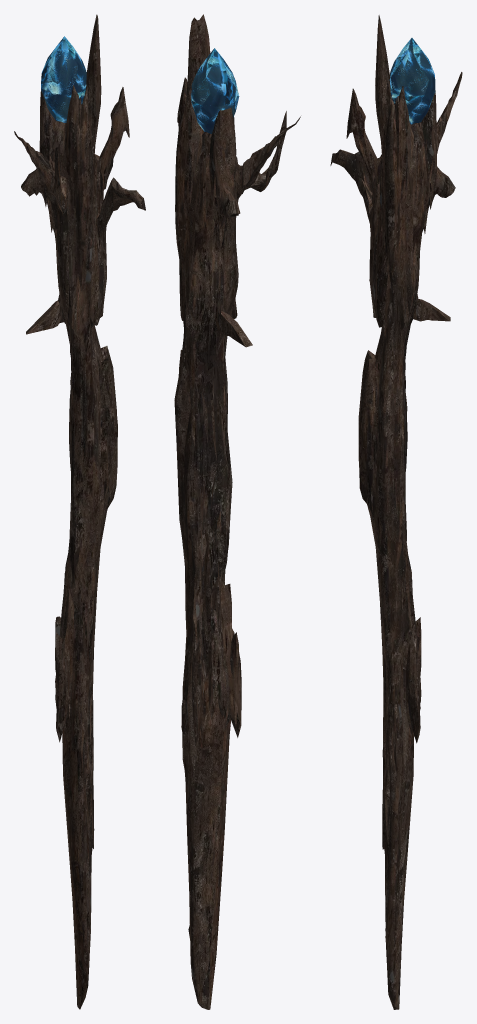
The model's file is staff.glb.
3 renders of one model, left to right at view 1: azimuth 90°, elevation 25°; view 2: azimuth 210°, elevation 25°; view 3: azimuth 270°, elevation 25°, orthographic.
Parts seen in each view (by area): view 1: Cylinder.004_Material.016_0, Gem.001_Material.015_0; view 2: Cylinder.004_Material.016_0, Gem.001_Material.015_0; view 3: Cylinder.004_Material.016_0, Gem.001_Material.015_0.
Part boxes in pixels (left/top/right/bottom): Cylinder.004_Material.016_0: left=14, top=14, right=145, bottom=1009; Gem.001_Material.015_0: left=41, top=36, right=86, bottom=122; Cylinder.004_Material.016_0: left=174, top=14, right=300, bottom=1009; Gem.001_Material.015_0: left=191, top=48, right=239, bottom=133; Cylinder.004_Material.016_0: left=330, top=15, right=462, bottom=1009; Gem.001_Material.015_0: left=389, top=38, right=435, bottom=124.
Bounding box in the file's own units: 0.1608 × 1.55 × 0.1863.
2 materials, 2 textured.
